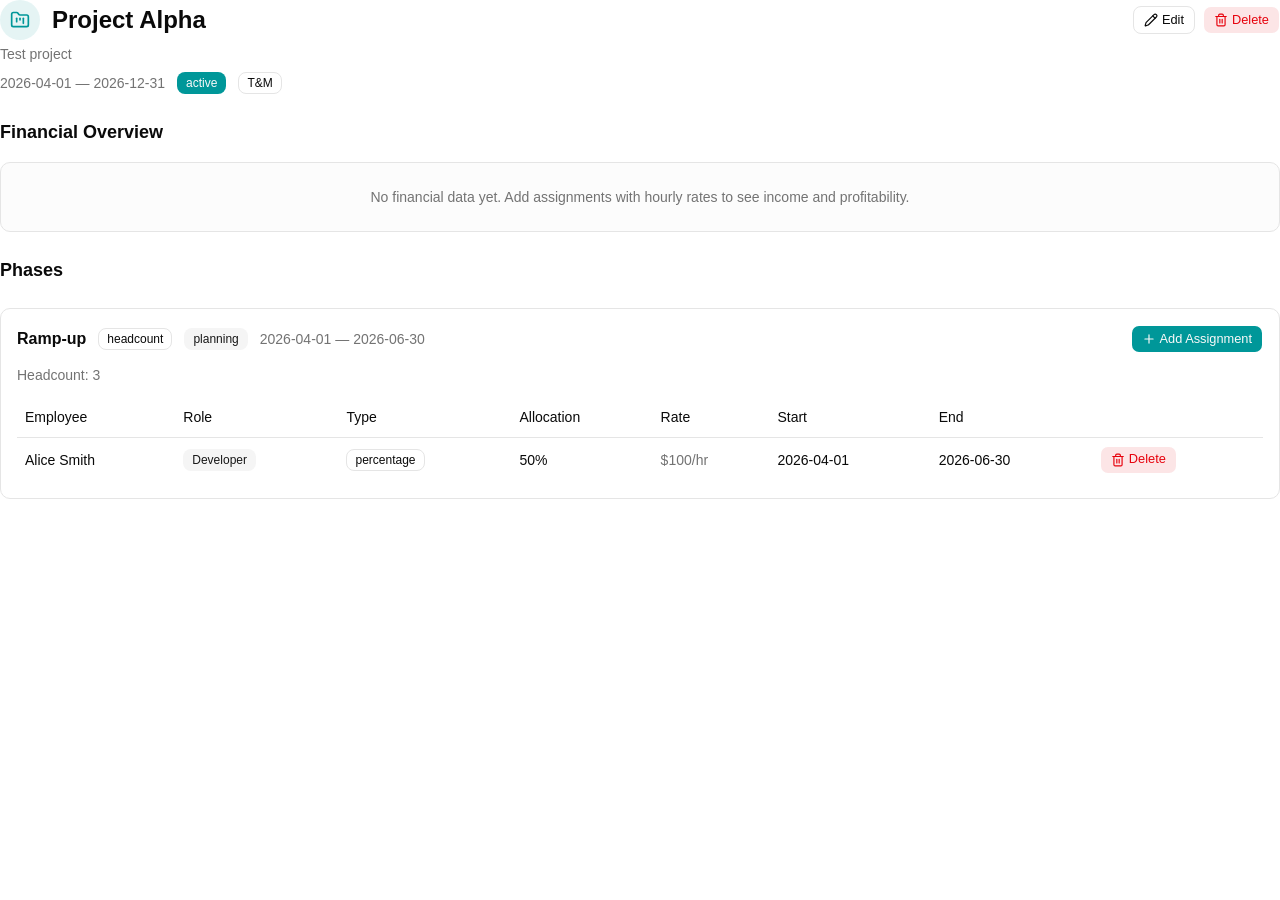
Project Detail Page › should open assignment form when phase Add Assignment button is clicked
The width and height of the screenshot is (1280, 900).
What coordinates should you click on to do the following:
click the button with test id "phase-add-assignment-phase-1"
I would click on:
 (1197, 339)
Its box is x1=1130 y1=325 x2=1263 y2=353.
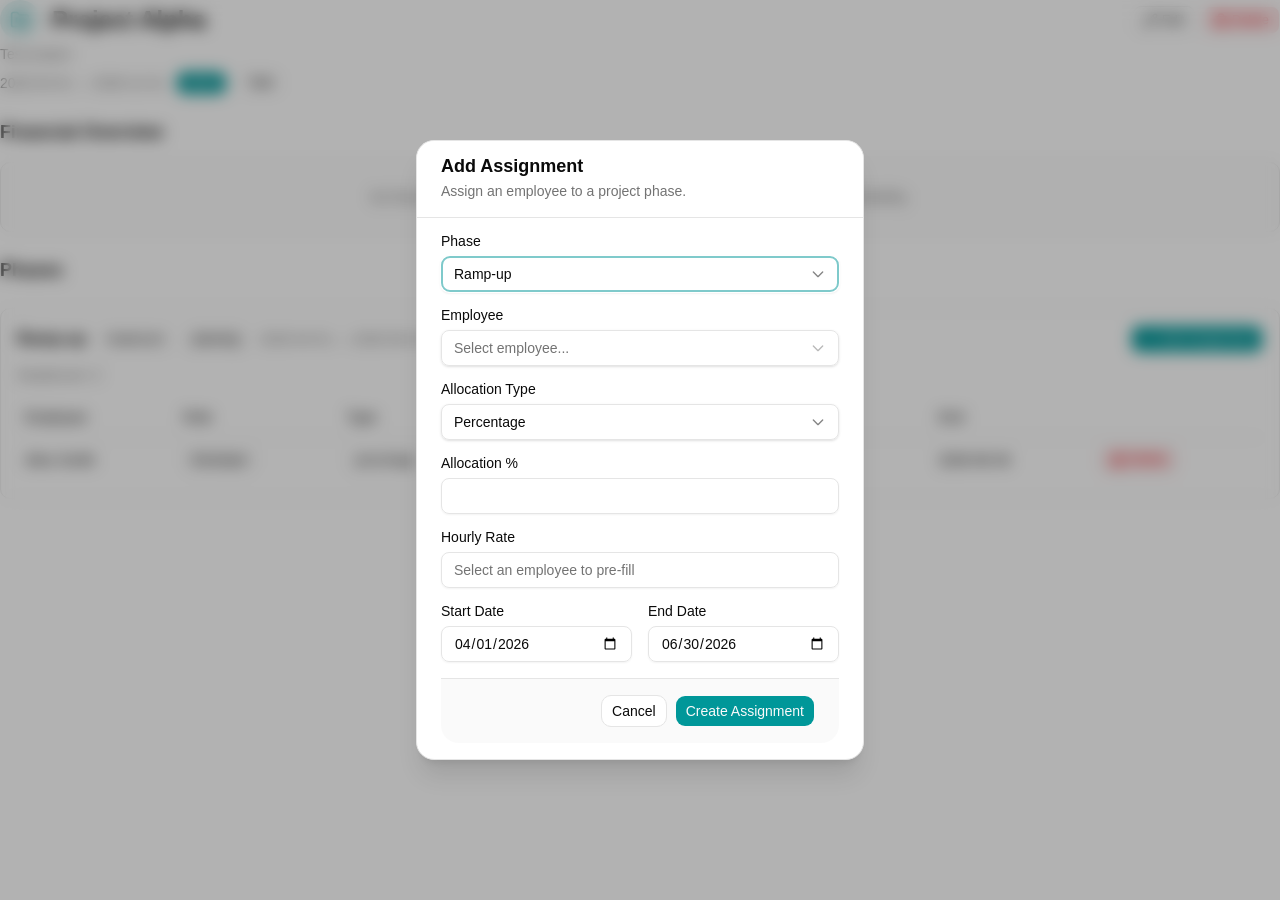
Now the heading "Add Assignment" is shown, box x1=441 y1=156 x2=583 y2=176
Now the button with test id "assignment-employee-select" is shown, box x1=441 y1=330 x2=839 y2=366
Now the button with test id "assignment-phase-select" is shown, box x1=441 y1=256 x2=839 y2=292
